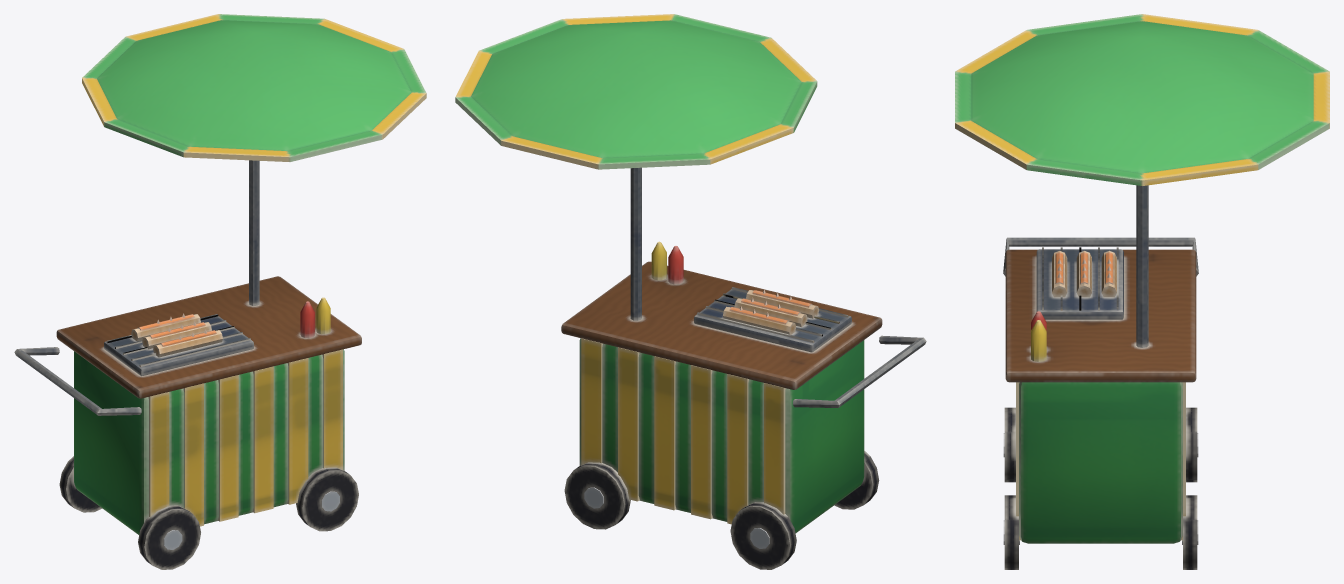
Rendered from dinodog_stand.glb.
The picture shows the model from 3 angles, left to right: view 1: azimuth 30°, elevation 25°; view 2: azimuth 150°, elevation 25°; view 3: azimuth 270°, elevation 25°; orthographic projection. The views are drawn at different scales.
Parts seen in each view (by area): view 1: SM_DinoDogStand; view 2: SM_DinoDogStand; view 3: SM_DinoDogStand.
Boxes of the visible parts, x1,y1,x2,y2 form: SM_DinoDogStand: (14, 14, 426, 569); SM_DinoDogStand: (455, 14, 926, 569); SM_DinoDogStand: (955, 14, 1329, 569).
Size of what is drawn, in the model's own units: 2.32 by 2.77 by 1.81.
1 material, 1 textured.
